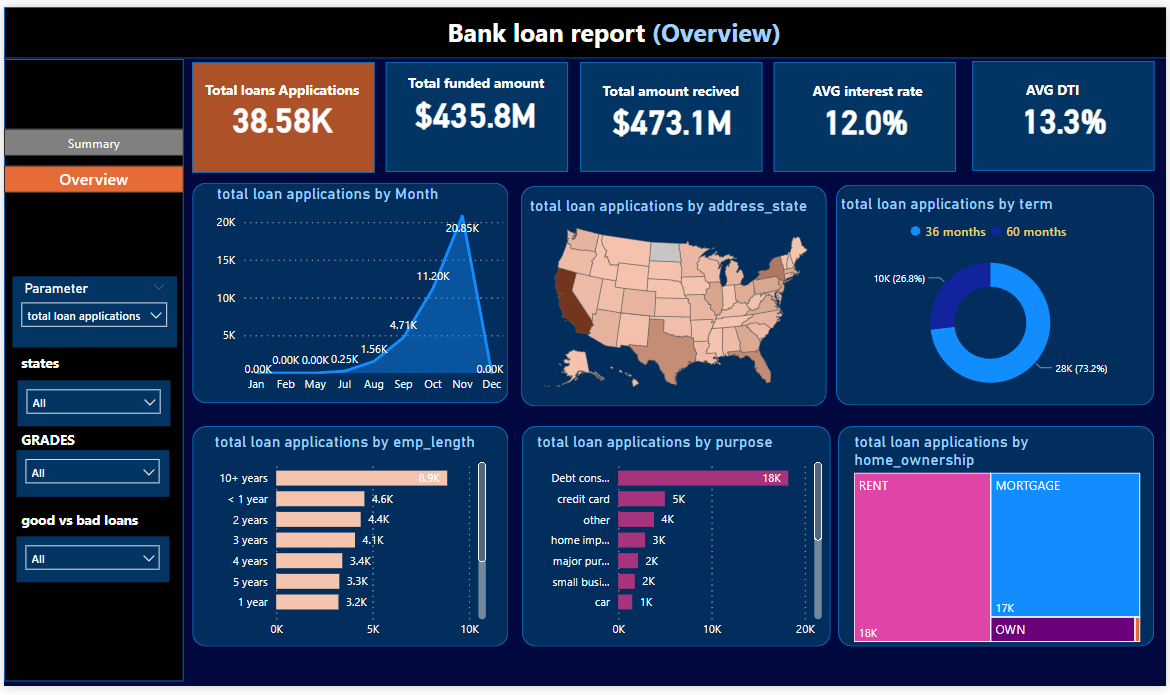

This screenshot's page, from the dashboard's own definition file:
{"tool":"powerbi","page":{"name":"Overview","canvas":[1241,726],"ordinal":1},"visuals":[{"type":"shape","box":[888.9,190,340,235.6],"z":0},{"type":"shape","box":[0,55,192,665],"z":1000},{"type":"shape","box":[408.1,59.1,194.9,117.3],"z":2000},{"type":"shape","box":[0,0,1280,55],"z":3000},{"type":"textbox","box":[468.6,2.9,395.7,48.6],"z":4000},{"type":"shape","box":[200.7,59.1,194.9,118.3],"z":5000},{"type":"card","fields":{"Values":["financial_loan.total loan applications"]},"box":[210,72.5,175,92.5],"z":6000},{"type":"textbox","box":[210,72.9,195.7,45.7],"z":7000},{"type":"card","fields":{"Values":["financial_loan.totsl funded amount"]},"box":[412.5,66.2,183.3,92.9],"z":8000},{"type":"shape","box":[1034.4,58.2,194.9,117.3],"z":9000,"group":"g3"},{"type":"shape","box":[615.6,59.1,194.8,117.1],"z":9000,"group":"g1"},{"type":"shape","box":[822.1,59.1,194.9,117.3],"z":9000,"group":"g2"},{"type":"textbox","box":[426.5,66.2,194.8,45.8],"z":9000},{"type":"group","id":"g1","title":"Group 1","box":[615.6,59.1,213.3,117.3],"z":10000},{"type":"textbox","box":[1086.1,73.7,193.9,45.6],"z":10000,"group":"g3"},{"type":"textbox","box":[858.9,74.6,193.9,45.6],"z":10000,"group":"g2"},{"type":"textbox","box":[634.2,74.9,194.6,45.6],"z":10000,"group":"g1"},{"type":"group","id":"g2","title":"Group 1","box":[822.1,59.1,230.7,117.3],"z":11000},{"type":"card","fields":{"Values":["financial_loan.DTI average"]},"box":[1041.2,87.2,183.4,65.2],"z":11000,"group":"g3"},{"type":"card","fields":{"Values":["financial_loan.totsl amount recived"]},"box":[622.1,88,183.4,65.2],"z":11000,"group":"g1"},{"type":"card","fields":{"Values":["financial_loan.AVG interst rate"]},"box":[828.9,88.1,183.4,65.2],"z":11000,"group":"g2"},{"type":"group","id":"g3","title":"Group 1","box":[1034.4,58.2,245.6,117.3],"z":12000},{"type":"shape","box":[201.1,187.8,337.8,235.6],"z":13000},{"type":"slicer","fields":{"Values":["financial_loan.address_state"]},"box":[14.4,398.9,163.3,48.9],"z":14000},{"type":"slicer","fields":{"Values":["financial_loan.grade"]},"box":[13.3,473.3,163.3,50],"z":15000},{"type":"slicer","fields":{"Values":["financial_loan.loan_status (groups)"]},"box":[13.3,565.6,163.3,48.9],"z":16000},{"type":"textbox","box":[13.3,365.6,195.6,45.6],"z":17000},{"type":"textbox","box":[13.3,533.3,195.6,45.6],"z":18000},{"type":"textbox","box":[13.3,447.8,195.6,45.6],"z":19000},{"type":"areaChart","fields":{"Y":["financial_loan.total loan applications"],"Category":["Date Table.Month"]},"box":[222.2,190,316.7,231.1],"z":20000},{"type":"slicer","fields":{"Values":["Parameter.Parameter"]},"box":[8.9,287.8,175.6,75.6],"z":21000},{"type":"shape","box":[552.2,191.1,326.7,235.6],"z":22000},{"type":"shapeMap","fields":{"Category":["financial_loan.address_state"],"Value":["financial_loan.total loan applications"]},"box":[556.7,202.2,322.2,218.9],"z":23000},{"type":"donutChart","fields":{"Category":["financial_loan.term"],"Y":["financial_loan.total loan applications"]},"box":[888.9,200,330,225.6],"z":24000},{"type":"shape","box":[553.3,447.8,330,235.5],"z":24001},{"type":"shape","box":[201.1,447.8,337.8,235.6],"z":24002},{"type":"shape","box":[891.1,447.8,337.8,235.6],"z":24003},{"type":"barChart","fields":{"Category":["financial_loan.emp_length"],"Y":["financial_loan.total loan applications"]},"box":[220,454.4,300,228.9],"z":24004},{"type":"barChart","fields":{"Category":["financial_loan.purpose"],"Y":["financial_loan.total loan applications"]},"box":[564.4,454.4,314.4,228.9],"z":24005},{"type":"treemap","fields":{"Group":["financial_loan.home_ownership"],"Values":["financial_loan.total loan applications"]},"box":[903.3,454.4,315.6,228.9],"z":24006},{"type":"pageNavigator","box":[0,130,192.2,68.9],"z":24007}]}

Visuals, with their boxes in screenshot pixels (x1, y1, x2, y2), scaled from the page's 1241x726 canvas onto the 1170x695 screenshot:
shape: [left=838, top=182, right=1159, bottom=407]
shape: [left=0, top=53, right=181, bottom=689]
shape: [left=385, top=57, right=569, bottom=169]
shape: [left=0, top=0, right=1169, bottom=53]
textbox: [left=442, top=3, right=815, bottom=49]
shape: [left=189, top=57, right=373, bottom=170]
card - financial_loan.total loan applications: [left=198, top=69, right=363, bottom=158]
textbox: [left=198, top=70, right=382, bottom=114]
card - financial_loan.totsl funded amount: [left=389, top=63, right=562, bottom=152]
shape: [left=975, top=56, right=1159, bottom=168]
shape: [left=580, top=57, right=764, bottom=169]
shape: [left=775, top=57, right=959, bottom=169]
textbox: [left=402, top=63, right=586, bottom=107]
"Group 1" group: [left=580, top=57, right=781, bottom=169]
textbox: [left=1024, top=71, right=1169, bottom=114]
textbox: [left=810, top=71, right=993, bottom=115]
textbox: [left=598, top=72, right=781, bottom=115]
"Group 1" group: [left=775, top=57, right=993, bottom=169]
card - financial_loan.DTI average: [left=982, top=83, right=1155, bottom=146]
card - financial_loan.totsl amount recived: [left=587, top=84, right=759, bottom=147]
card - financial_loan.AVG interst rate: [left=781, top=84, right=954, bottom=147]
"Group 1" group: [left=975, top=56, right=1169, bottom=168]
shape: [left=190, top=180, right=508, bottom=405]
slicer - financial_loan.address_state: [left=14, top=382, right=168, bottom=429]
slicer - financial_loan.grade: [left=13, top=453, right=166, bottom=501]
slicer - financial_loan.loan_status (groups): [left=13, top=541, right=166, bottom=588]
textbox: [left=13, top=350, right=197, bottom=394]
textbox: [left=13, top=511, right=197, bottom=554]
textbox: [left=13, top=429, right=197, bottom=472]
areaChart - financial_loan.total loan applications x Date Table.Month: [left=209, top=182, right=508, bottom=403]
slicer - Parameter.Parameter: [left=8, top=276, right=174, bottom=348]
shape: [left=521, top=183, right=829, bottom=408]
shapeMap - financial_loan.address_state x financial_loan.total loan applications: [left=525, top=194, right=829, bottom=403]
donutChart - financial_loan.term x financial_loan.total loan applications: [left=838, top=191, right=1149, bottom=407]
shape: [left=522, top=429, right=833, bottom=654]
shape: [left=190, top=429, right=508, bottom=654]
shape: [left=840, top=429, right=1159, bottom=654]
barChart - financial_loan.emp_length x financial_loan.total loan applications: [left=207, top=435, right=490, bottom=654]
barChart - financial_loan.purpose x financial_loan.total loan applications: [left=532, top=435, right=829, bottom=654]
treemap - financial_loan.home_ownership x financial_loan.total loan applications: [left=852, top=435, right=1149, bottom=654]
pageNavigator: [left=0, top=124, right=181, bottom=190]
